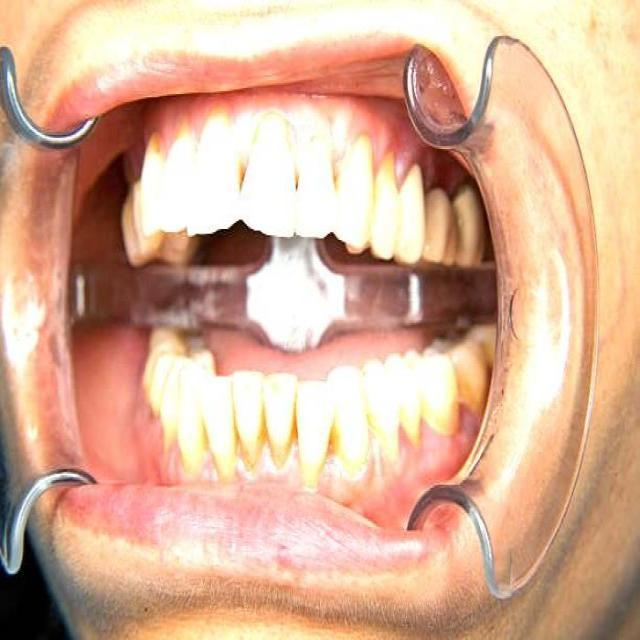CALCULUS: (230, 422, 253, 465), (451, 377, 472, 410), (324, 430, 341, 469), (292, 404, 305, 453), (257, 412, 272, 445), (330, 165, 347, 193)
